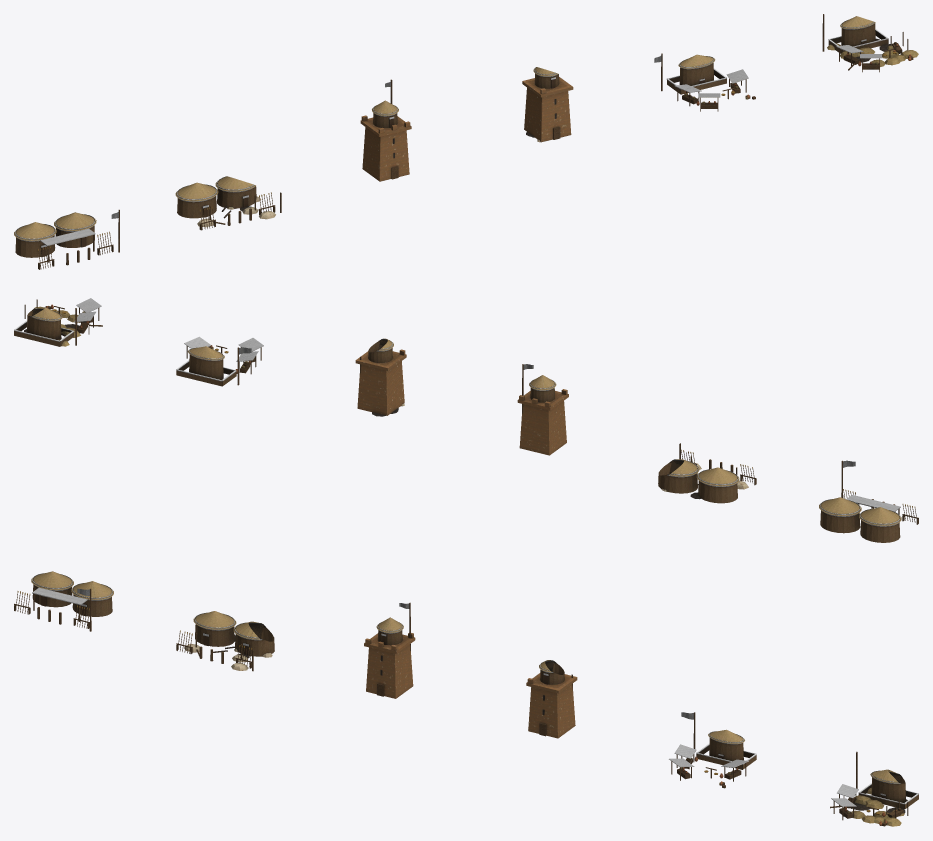
File: rts-bronze-maghreb.glb
3 renders of one model, top to bottom at view 1: azimuth 30°, elevation 25°; view 2: azimuth 150°, elevation 25°; view 3: azimuth 330°, elevation 25°, orthographic.
Parts seen in each view (by area): view 1: LOD0.001, LOD0.002, LOD0, LOD0.003, LOD0.005, LOD0.004; view 2: LOD0, LOD0.002, LOD0.003, LOD0.001, LOD0.005, LOD0.004; view 3: LOD0.001, LOD0.002, LOD0.005, LOD0, LOD0.003, LOD0.004.
Part boxes in pixels (bbox=[...]): LOD0.001: bbox=[175, 176, 281, 230]; LOD0.002: bbox=[360, 79, 411, 181]; LOD0: bbox=[14, 209, 119, 269]; LOD0.003: bbox=[522, 67, 573, 142]; LOD0.005: bbox=[822, 14, 918, 72]; LOD0.004: bbox=[654, 53, 755, 111]; LOD0: bbox=[819, 460, 918, 542]; LOD0.002: bbox=[517, 364, 568, 455]; LOD0.003: bbox=[355, 338, 406, 416]; LOD0.001: bbox=[658, 443, 756, 503]; LOD0.005: bbox=[14, 298, 102, 346]; LOD0.004: bbox=[176, 336, 263, 386]; LOD0.001: bbox=[176, 611, 274, 671]; LOD0.002: bbox=[364, 602, 415, 698]; LOD0.005: bbox=[830, 751, 918, 826]; LOD0: bbox=[14, 571, 113, 631]; LOD0.003: bbox=[526, 660, 577, 738]; LOD0.004: bbox=[669, 712, 756, 788].
Size of what is drawn, in the model's own units: 16.4 by 1.48 by 1.36.
2 materials, 2 textured.
